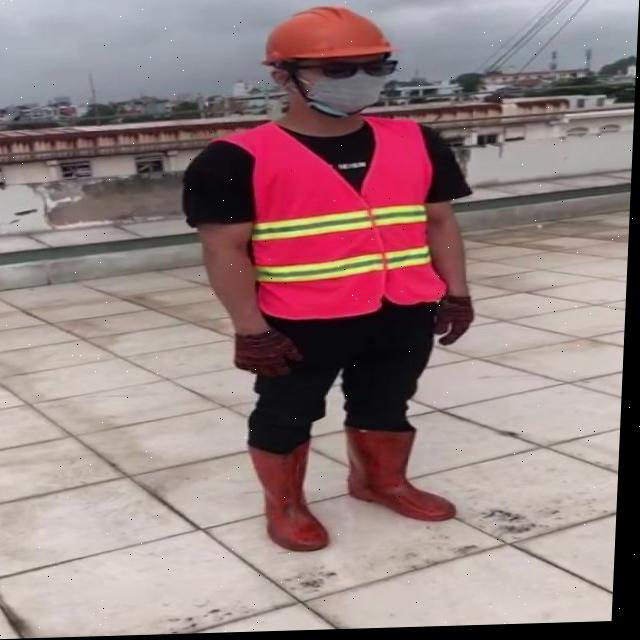Gloves: (236, 328, 307, 381), (435, 296, 478, 349)
Helmet: (260, 5, 405, 67)
Safety-Boot: (344, 422, 464, 527), (247, 438, 337, 555)
Safety-Vest: (198, 114, 463, 325)
